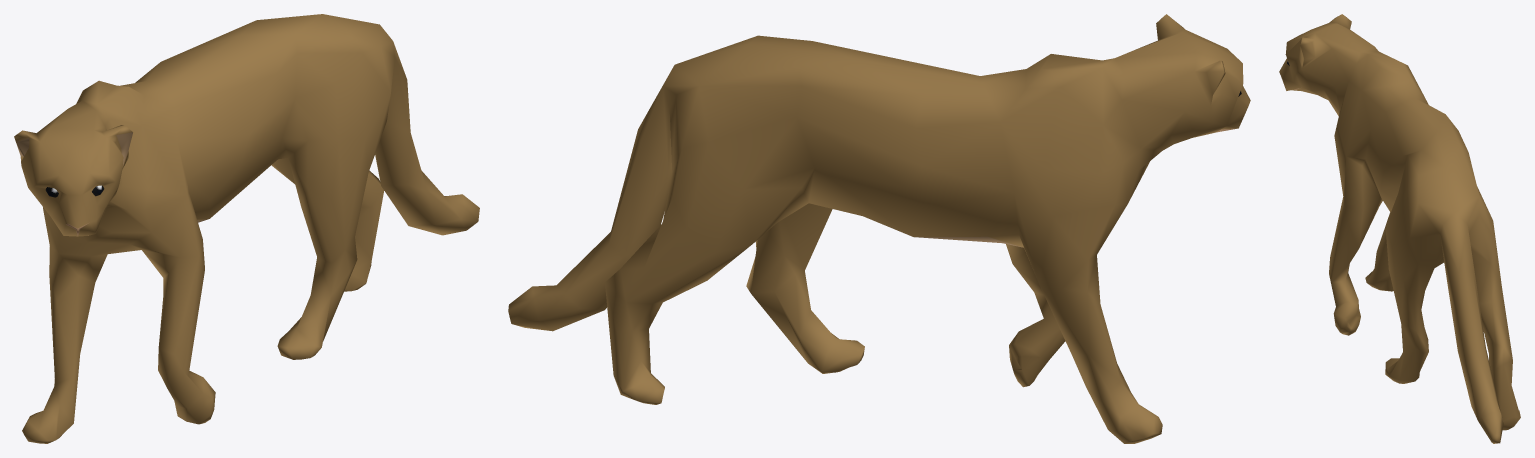
The model's file is Cougar02.glb.
The picture shows the model from 3 angles, left to right: view 1: azimuth 30°, elevation 25°; view 2: azimuth 150°, elevation 25°; view 3: azimuth 270°, elevation 25°; orthographic projection. The views are drawn at different scales.
Parts seen in each view (by area): view 1: Cougar02; view 2: Cougar02; view 3: Cougar02.
Part boxes in pixels (left/top/right/bottom): Cougar02: left=14, top=14, right=479, bottom=443; Cougar02: left=508, top=14, right=1250, bottom=443; Cougar02: left=1279, top=14, right=1520, bottom=443.
Size of what is drawn, in the model's own units: 1.99 by 1.17 by 0.9833.
Materials: 1 (1 with a texture image).
